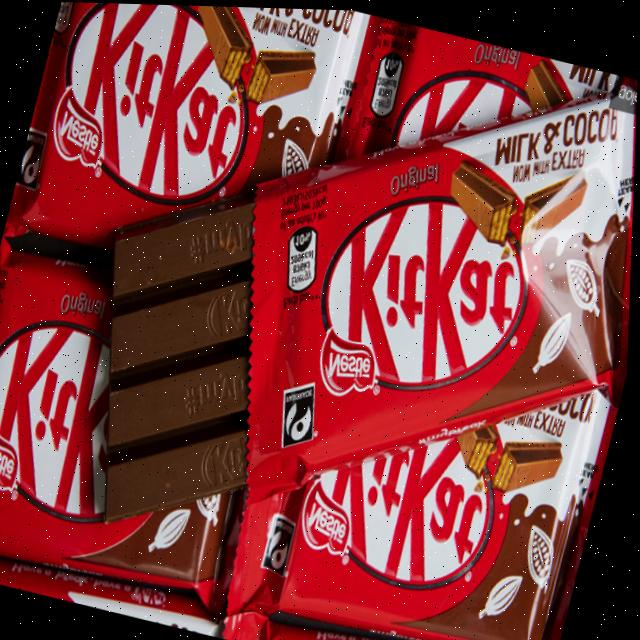kitkat: (182, 5, 640, 579), (221, 296, 627, 640), (1, 0, 374, 310), (0, 243, 291, 621)
